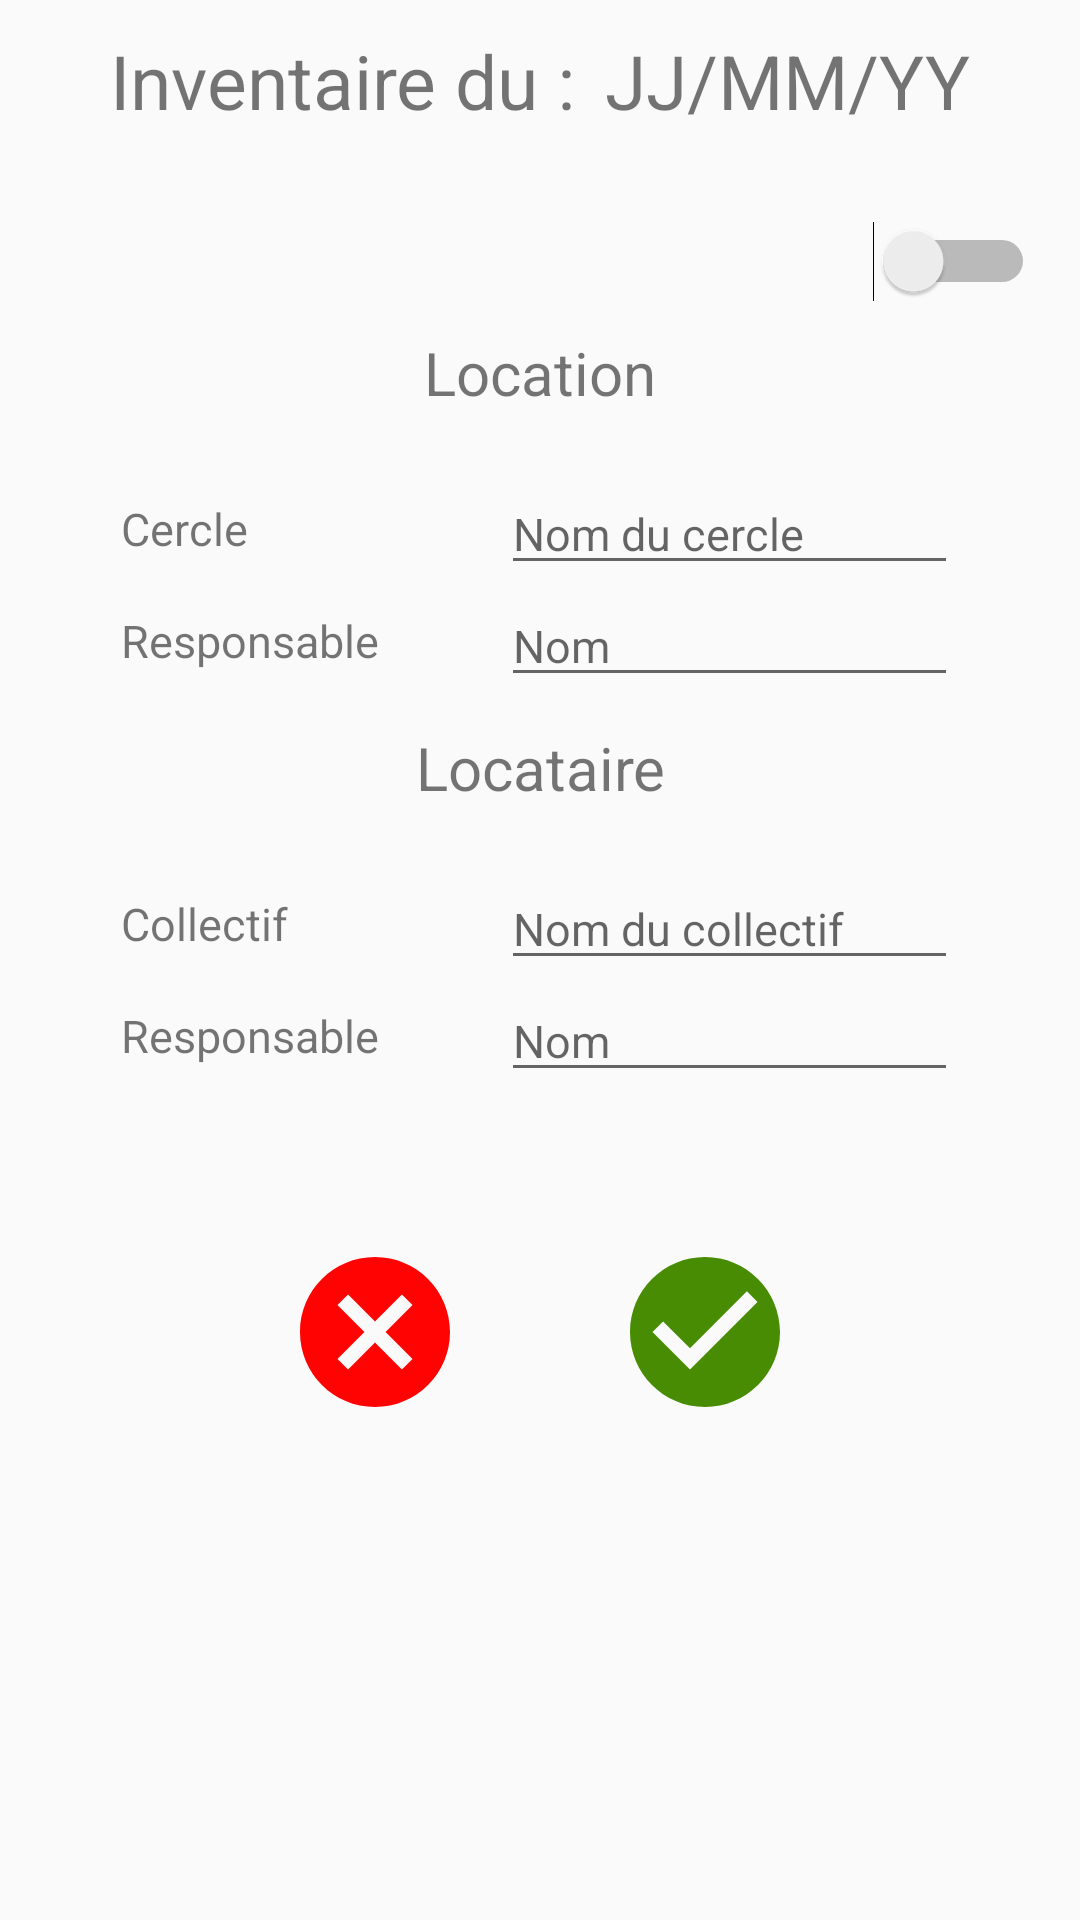

Named icons in this screenshot (1080px x 1920px) and their bounding boxes, (x1, y1, x2, y2):
cancel: (300, 1257, 450, 1407)
check circle: (630, 1257, 780, 1407)
